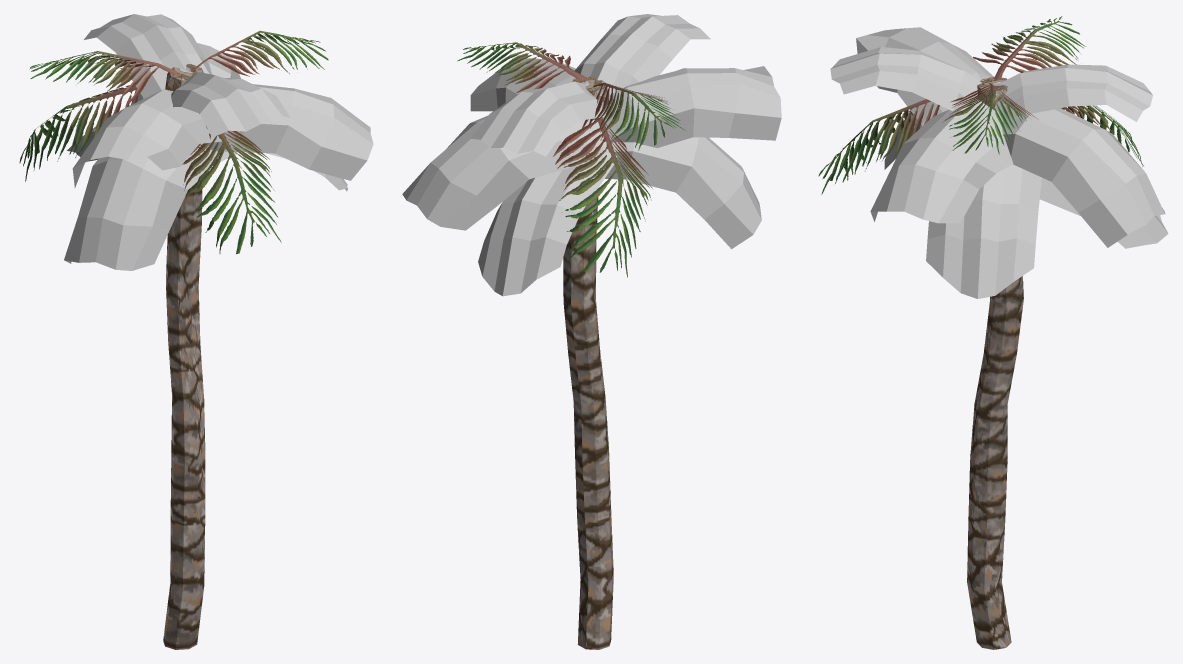
The model's file is palm tree 4.fbx.
3 views of the same model, side by side, from view 1: azimuth 30°, elevation 25°; view 2: azimuth 150°, elevation 25°; view 3: azimuth 270°, elevation 25° (orthographic).
Visible parts, largest first — view 1: palm; view 2: palm; view 3: palm.
Part boxes in pixels (x1,y1,x2,y2): palm: (19, 14, 373, 649); palm: (402, 14, 781, 649); palm: (818, 16, 1168, 649).
Bounding box in the file's own units: 535 × 990 × 546.
